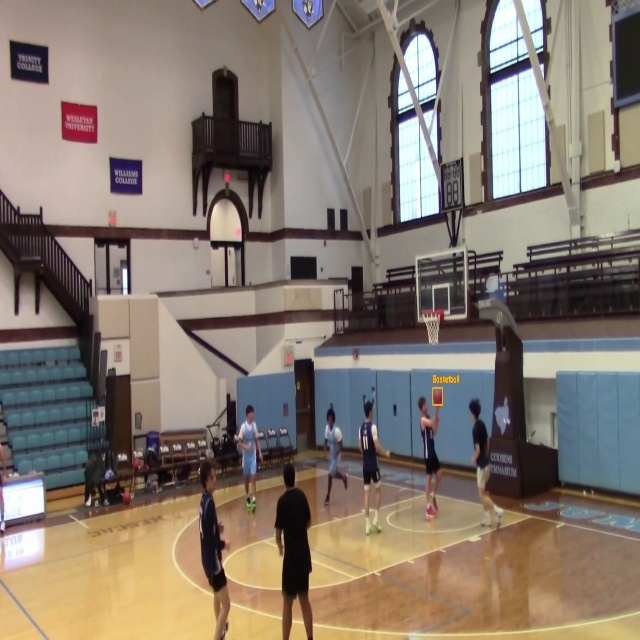Basketball: (433, 388, 442, 405)
